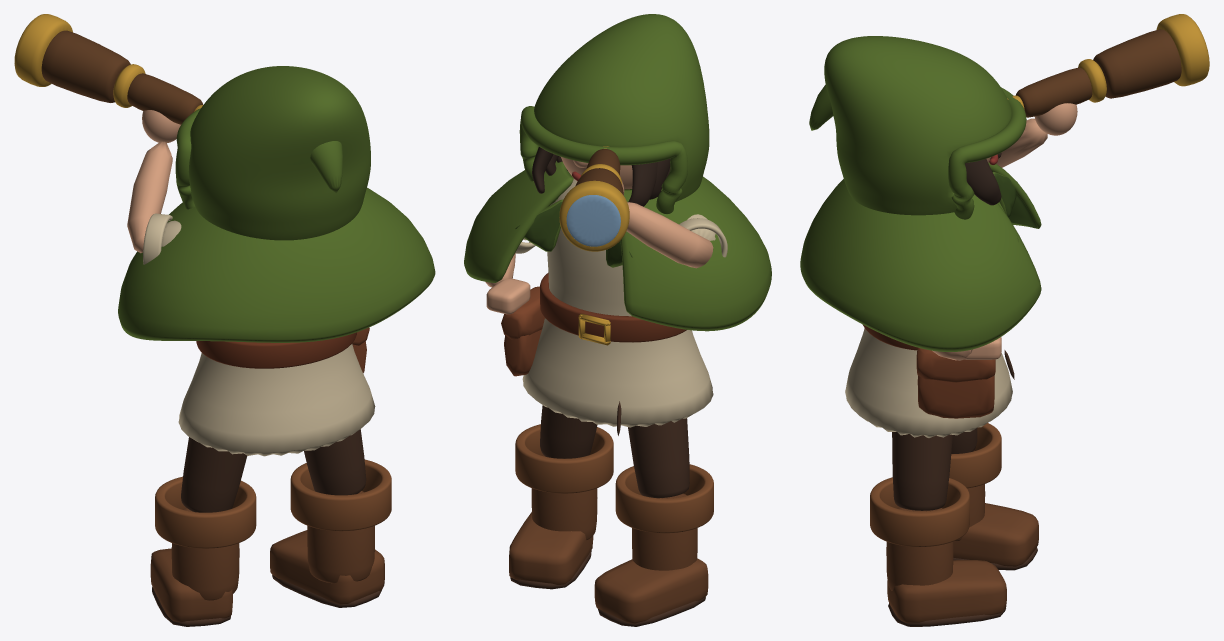
The model's file is scout_detail.glb.
3 renders of one model, left to right at view 1: azimuth 30°, elevation 25°; view 2: azimuth 150°, elevation 25°; view 3: azimuth 270°, elevation 25°, orthographic. The views are drawn at different scales.
Visible parts, largest first — view 1: Detail; view 2: Detail; view 3: Detail.
Part boxes in pixels (<box>): Detail: <box>14,14,435,626</box>; Detail: <box>464,14,771,626</box>; Detail: <box>800,14,1209,626</box>.
Bounding box in the file's own units: 0.4242 × 0.7696 × 0.5263.
